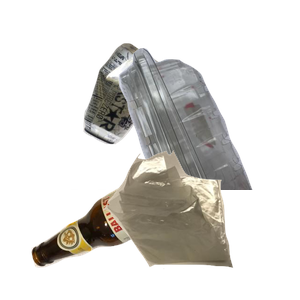glass: (29, 150, 238, 300)
metal: (81, 41, 234, 178)
plastic: (71, 45, 300, 225)
trash: (101, 148, 300, 300)
